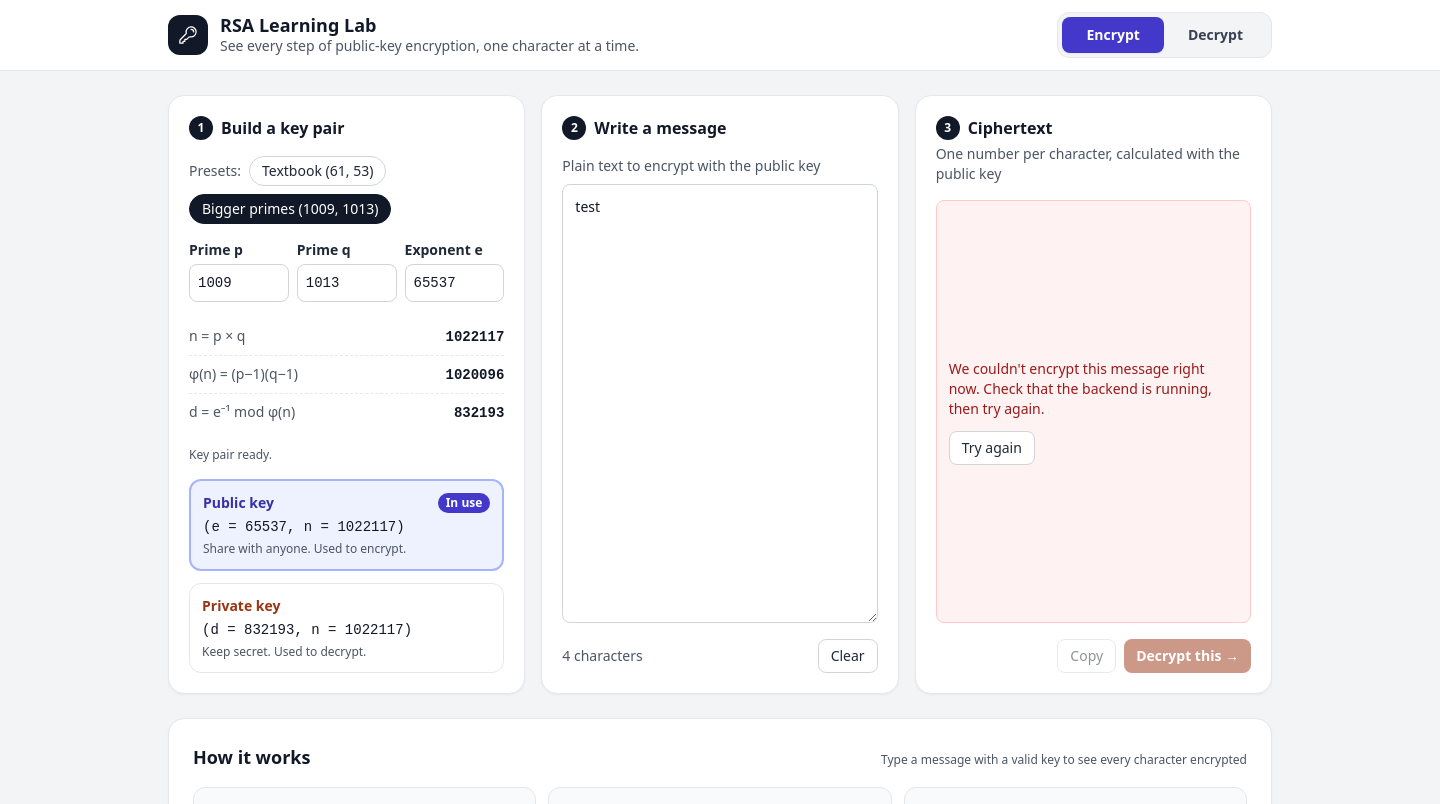
Scenario: live encryption › reports encrypt request failures with retry and keeps the plaintext
Check: the 1st message shows "couldn't encrypt", box [949,358,1212,418]
Check: the text box labelled "Plain text to encrypt with the public key" holds "test", box [562,184,878,623]
What coordinates should you click on to do the following:
click the button "Try again"
I would click on:
 (992, 448)
Its box is [949,430,1035,464].
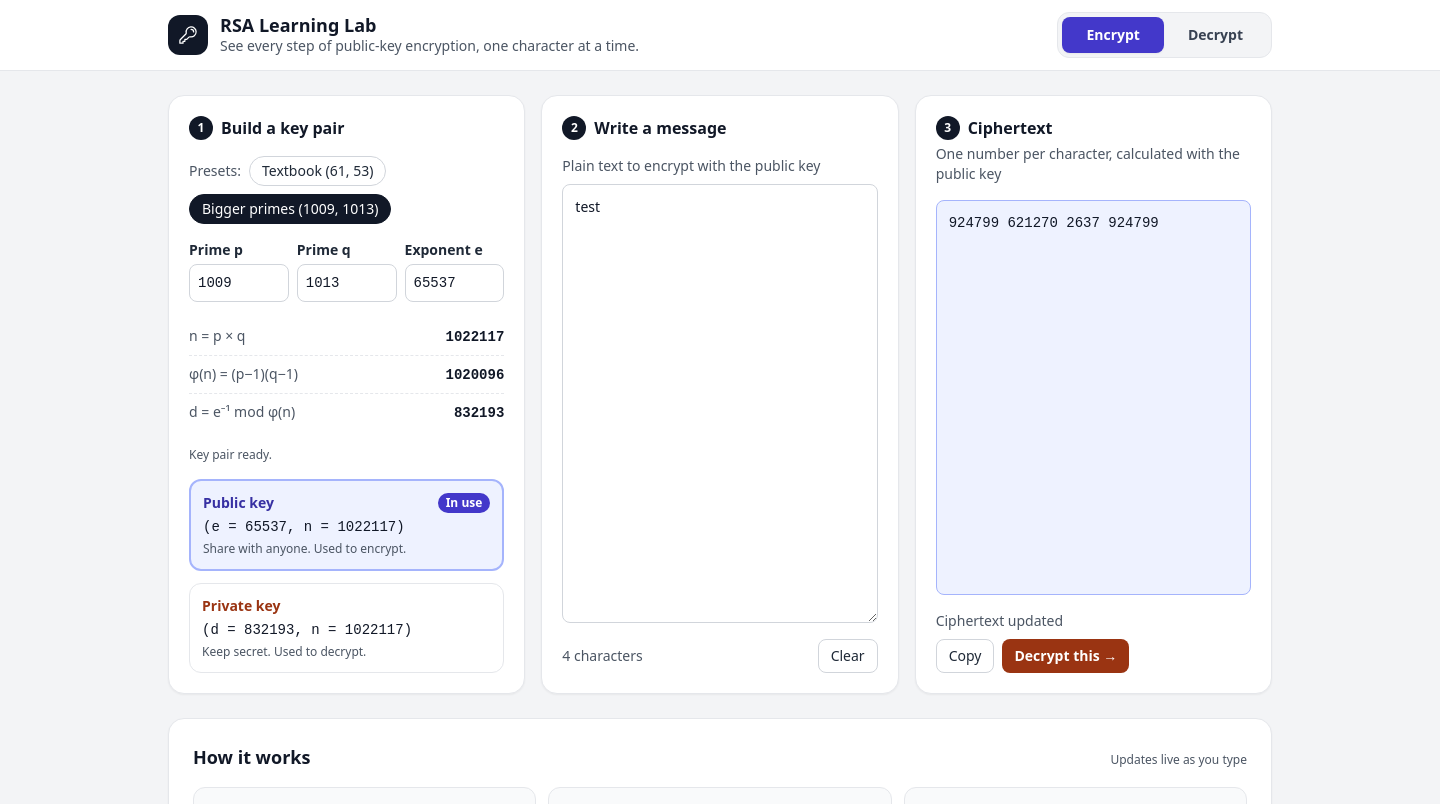
Check: the text named "Ciphertext output" reads "924799 621270 2637 924799", box [949,215,1159,231]
